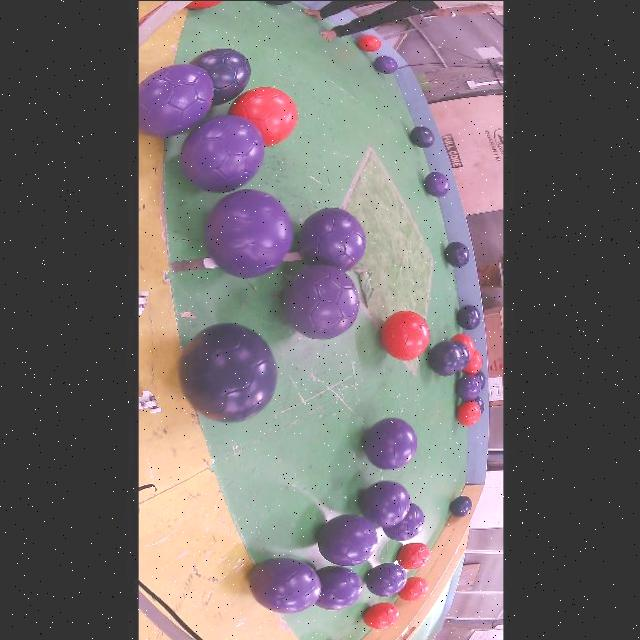B: (181, 322, 277, 422), (191, 47, 251, 105), (429, 339, 463, 375), (444, 241, 469, 266), (456, 304, 481, 329), (410, 126, 435, 147), (450, 495, 472, 517), (475, 370, 486, 389)
P: (205, 189, 293, 277), (181, 114, 264, 191), (283, 265, 359, 338), (139, 64, 213, 137), (298, 207, 367, 270), (250, 557, 321, 613), (317, 514, 378, 565), (364, 417, 417, 469), (359, 480, 411, 527), (315, 565, 363, 609), (384, 503, 425, 539), (367, 562, 407, 595), (456, 374, 482, 400), (425, 171, 449, 196), (374, 55, 398, 72)
R: (229, 86, 298, 146), (382, 309, 430, 360), (363, 602, 399, 628), (397, 542, 430, 569), (398, 576, 429, 600), (456, 400, 482, 426), (450, 333, 475, 357), (463, 350, 483, 374), (358, 33, 381, 51)
